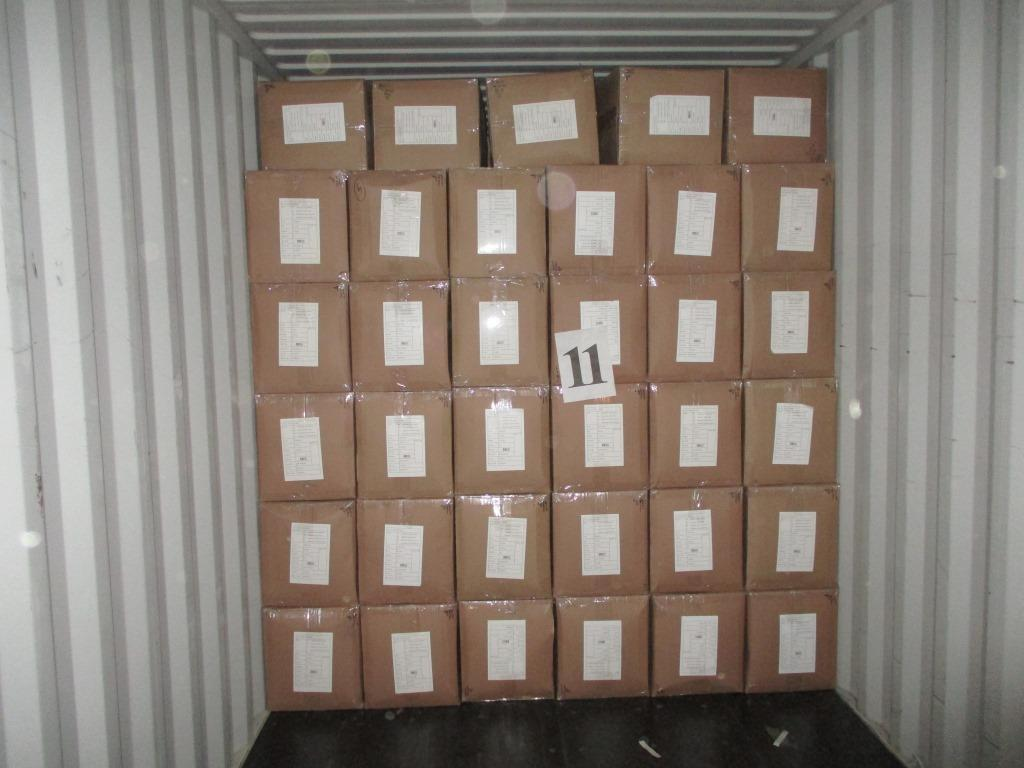carton: (598, 67, 724, 164), (243, 170, 348, 281), (484, 69, 600, 167), (544, 164, 646, 275), (249, 282, 351, 392), (349, 280, 450, 391), (346, 170, 447, 280), (446, 167, 547, 276), (550, 381, 649, 492), (253, 393, 355, 500), (449, 276, 548, 386), (353, 390, 452, 499), (452, 386, 551, 494), (548, 273, 646, 382), (262, 605, 363, 710), (356, 498, 455, 604), (359, 603, 458, 708), (454, 494, 552, 600), (259, 499, 356, 606), (646, 164, 740, 274), (552, 489, 649, 595), (256, 79, 368, 170), (739, 163, 834, 270), (646, 273, 741, 380), (742, 378, 837, 485), (742, 270, 836, 378), (648, 379, 742, 487), (649, 486, 744, 592), (745, 484, 839, 590), (371, 79, 480, 170), (554, 595, 649, 699), (651, 591, 745, 696), (459, 598, 555, 700), (726, 67, 828, 163), (746, 589, 838, 693)
